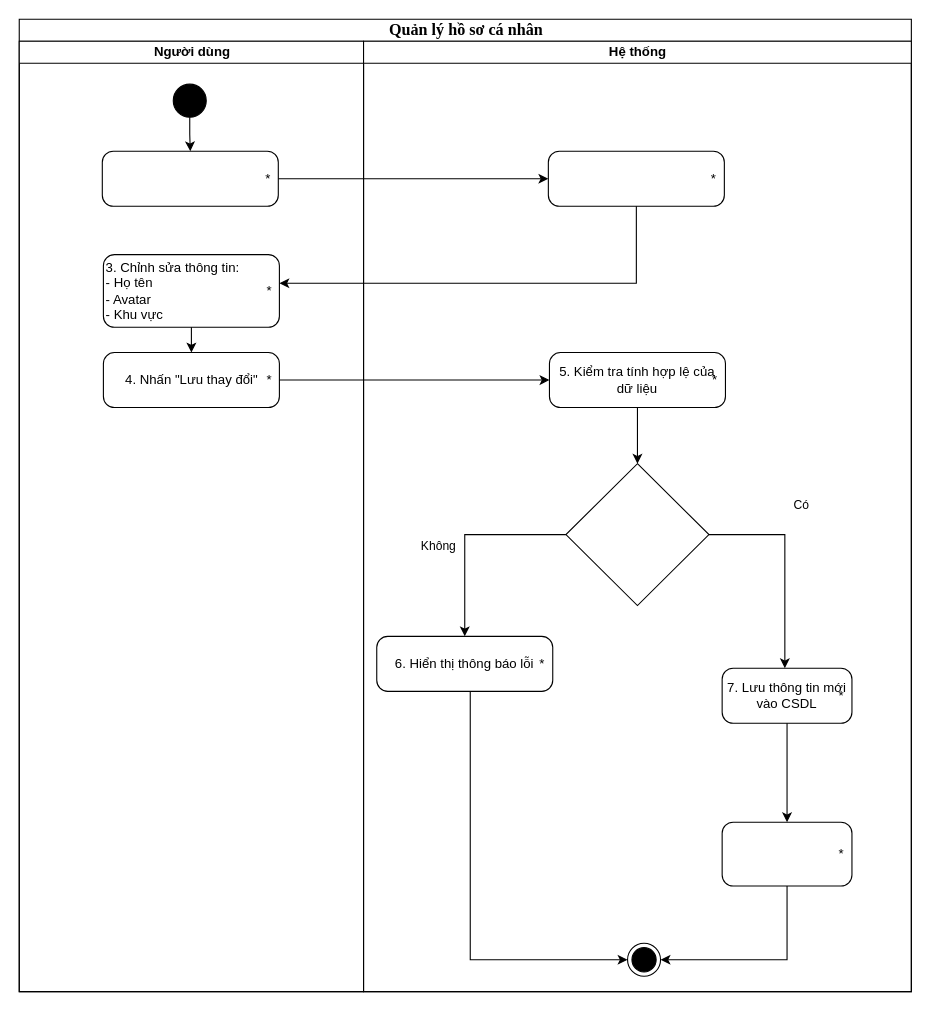
The diagram is 931 pixels wide and 1011 high, and some of its shapes have lost their labels. The shapes that lost their labels are listed below. From the top down, each one's centre as x and y in pixels, then its label:
[189,178]: 1. Truy cập mục "Hồ sơ cá nhân"
[635,178]: 2. Hiển thị thông tin hồ sơ hiện tại
[637,534]: Dữ liệu hợp lệ?
[786,853]: 8. Hiển thị thông báo "Cập nhật thành công"
